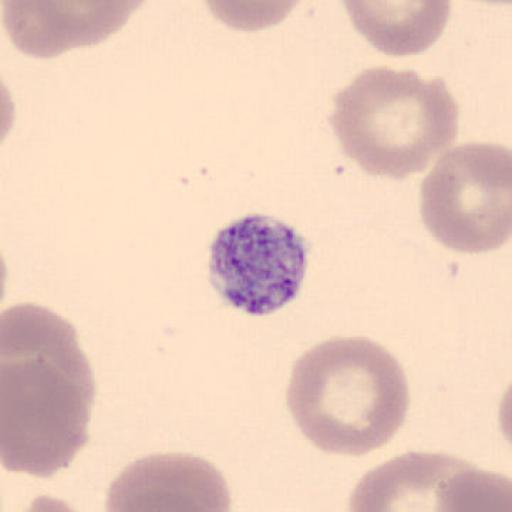Platelet: (204, 210, 315, 319)
RBC: (285, 334, 412, 459), (327, 66, 461, 181), (3, 356, 92, 480), (418, 140, 512, 254), (4, 301, 96, 414), (346, 450, 512, 512), (0, 1, 152, 60), (103, 451, 233, 512), (346, 448, 458, 512), (339, 0, 453, 58), (2, 0, 90, 61), (432, 464, 512, 512), (198, 0, 307, 34), (21, 492, 94, 512), (0, 72, 17, 148), (496, 377, 512, 447), (455, 0, 512, 6)
